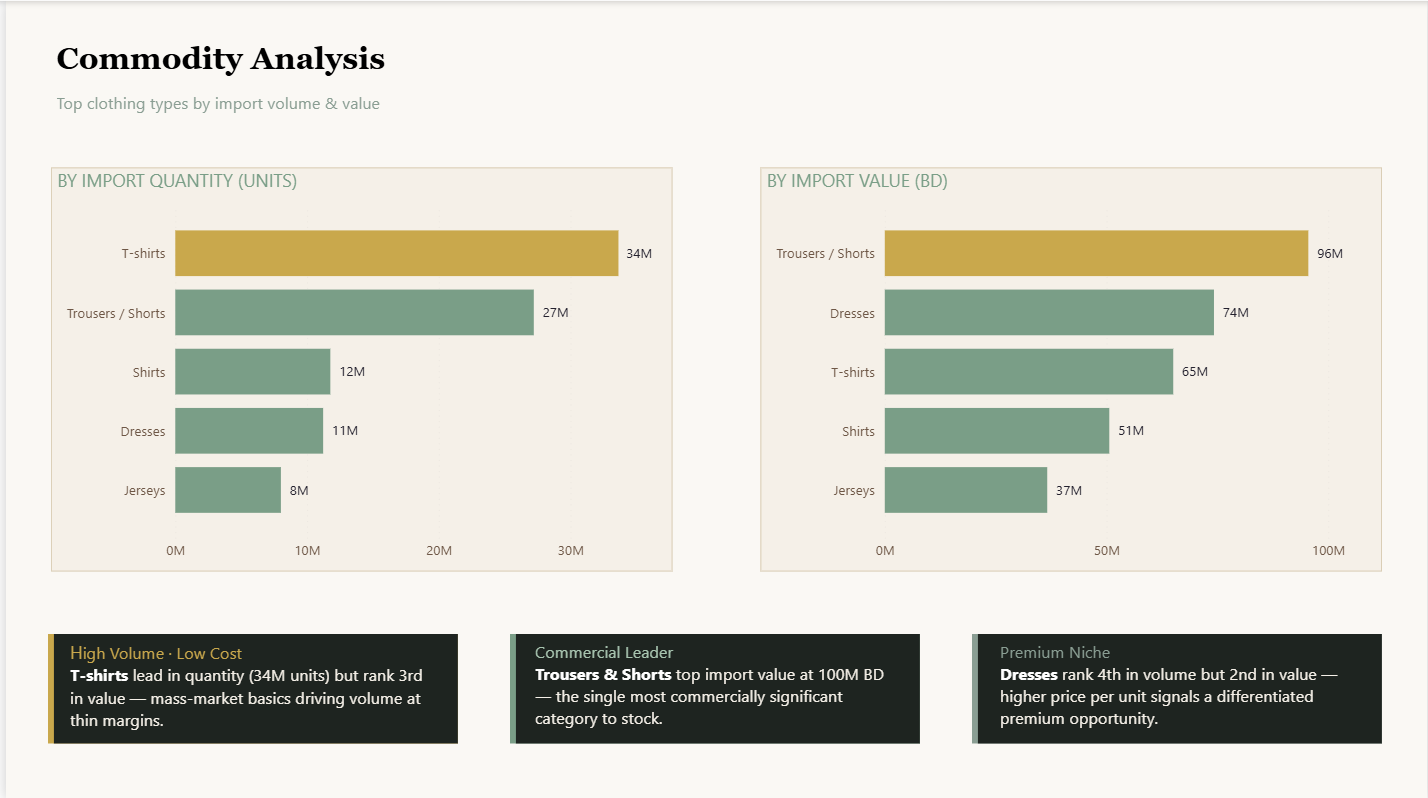

Layout of this report page (visuals, bound fields, positions):
{"tool":"powerbi","page":{"name":"Commodity Analysis","canvas":[1280,720],"ordinal":5},"visuals":[{"type":"textbox","box":[40.6,29.7,339.3,67.6],"z":1000},{"type":"textbox","box":[40.6,75.7,313.6,46],"z":2000},{"type":"clusteredBarChart","title":"BY IMPORT QUANTITY (UNITS)","fields":{"Y":["Sum(fast_fashion_imports.import_quantity)"],"Category":["fast_fashion_imports.Clothing Type"]},"box":[40,150,560,364],"z":3000},{"type":"clusteredBarChart","title":"BY IMPORT VALUE (BD)","fields":{"Category":["fast_fashion_imports.Clothing Type"],"Y":["Sum(fast_fashion_imports.import_value_bd)"]},"box":[680,150,560,364],"z":4000},{"type":"shape","box":[37.8,570.4,369,98.7],"z":5000,"group":"g2"},{"type":"group","id":"g1","title":"Group 3","box":[870.5,570.4,369,114.9],"z":5000},{"type":"group","id":"g2","title":"Group 4","box":[37.8,570.4,369,114.9],"z":6000},{"type":"textbox","box":[52.2,570.4,336.6,114.9],"z":6000,"group":"g2"},{"type":"group","id":"g3","title":"Group 5","box":[454.2,570.4,369,114.9],"z":7000},{"type":"shape","box":[454.2,570.4,369,98.7],"z":7000,"group":"g3"},{"type":"textbox","box":[471.8,570.4,333.9,114.9],"z":8000,"group":"g3"},{"type":"shape","box":[870.5,570.4,369,98.7],"z":9000,"group":"g1"},{"type":"textbox","box":[890.8,570.4,328.5,114.9],"z":10000,"group":"g1"}]}

Visuals, with their boxes in screenshot pixels (x1, y1, x2, y2), scaled from the page's 1280x720 canvas onto the 1428x798 screenshot:
textbox: BBox(45, 33, 424, 108)
textbox: BBox(45, 84, 395, 135)
"BY IMPORT QUANTITY (UNITS)" clusteredBarChart: BBox(45, 166, 669, 570)
"BY IMPORT VALUE (BD)" clusteredBarChart: BBox(759, 166, 1383, 570)
shape: BBox(42, 632, 454, 742)
"Group 3" group: BBox(971, 632, 1383, 760)
"Group 4" group: BBox(42, 632, 454, 760)
textbox: BBox(58, 632, 434, 760)
"Group 5" group: BBox(507, 632, 918, 760)
shape: BBox(507, 632, 918, 742)
textbox: BBox(526, 632, 899, 760)
shape: BBox(971, 632, 1383, 742)
textbox: BBox(994, 632, 1360, 760)
